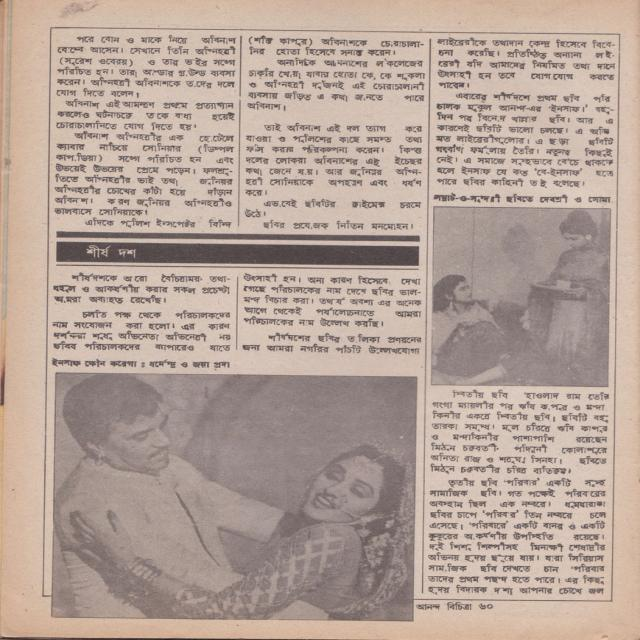caption: (433, 192, 612, 206), (51, 358, 232, 371)
image: (53, 374, 414, 620), (432, 208, 610, 385)
page number: (478, 602, 493, 610)
paragraph: (423, 477, 609, 600), (435, 92, 615, 189), (54, 130, 236, 217), (430, 389, 609, 475), (243, 122, 425, 197), (56, 34, 238, 98), (245, 56, 427, 113), (242, 271, 422, 328), (435, 36, 617, 90), (51, 309, 231, 352), (55, 98, 235, 132), (53, 272, 233, 304), (240, 332, 423, 355), (248, 34, 426, 56), (245, 198, 423, 219), (262, 219, 415, 231), (82, 217, 233, 229)
text: (447, 602, 473, 610), (418, 604, 440, 610)
title: (86, 244, 137, 261)
